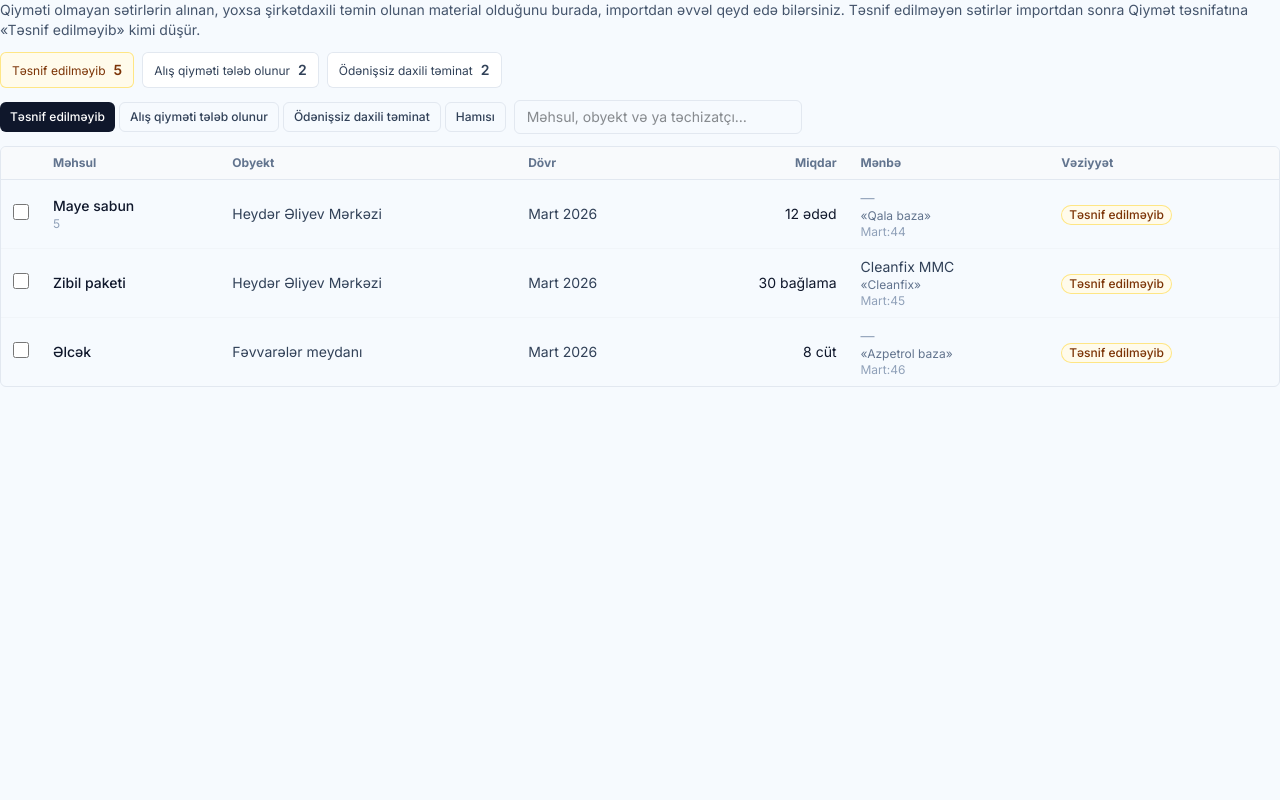
Test: classifying › names the two selected rows, and sends exactly their ids as «Ödənişsiz daxili təminat»
The width and height of the screenshot is (1280, 800).
Check: the text "Maye sabun" is shown, box [53,197,134,214]
Click the checkbox named "Maye sabun · Heydər Əliyev Mərkəzi · Mart 2026". click: (21,212)
box: [13,204,29,220]
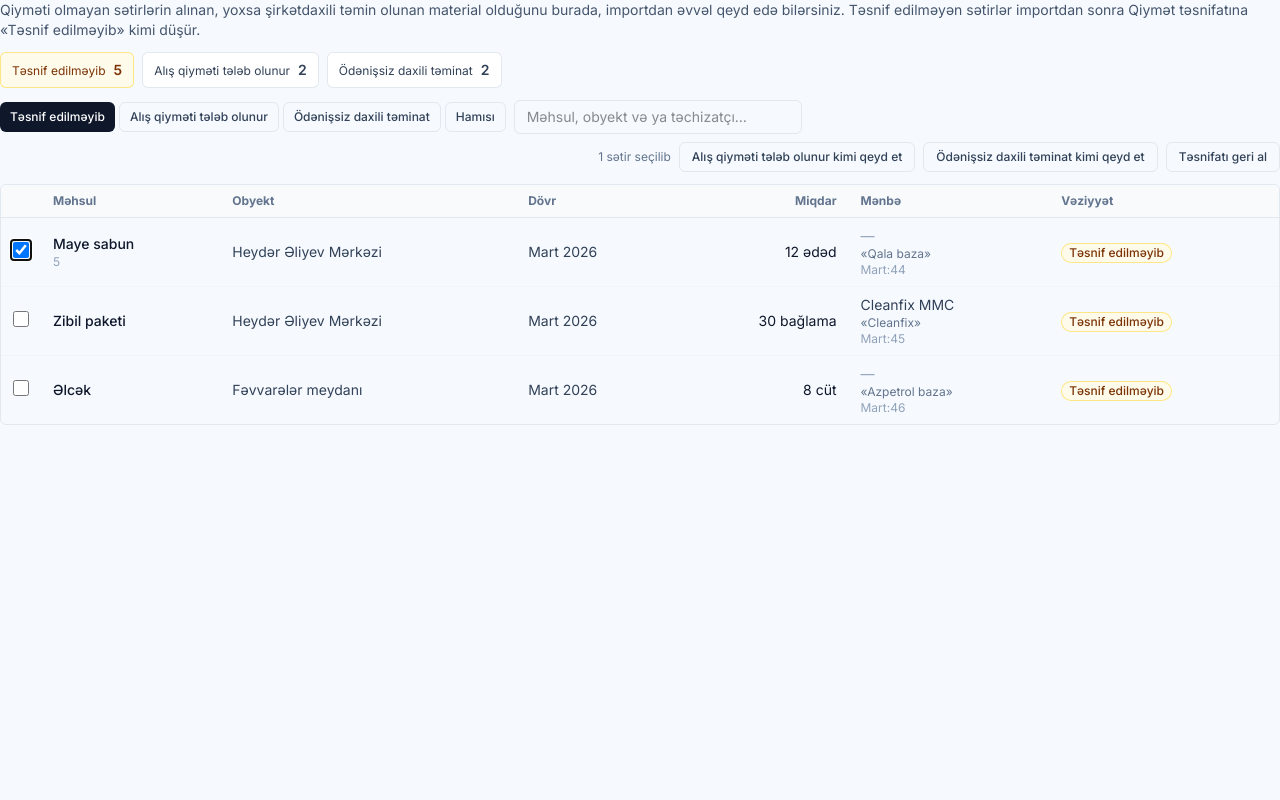
Click the checkbox named "Əlcək · Fəvvarələr meydanı · Mart 2026". click: (21,388)
box: [13,380,29,396]
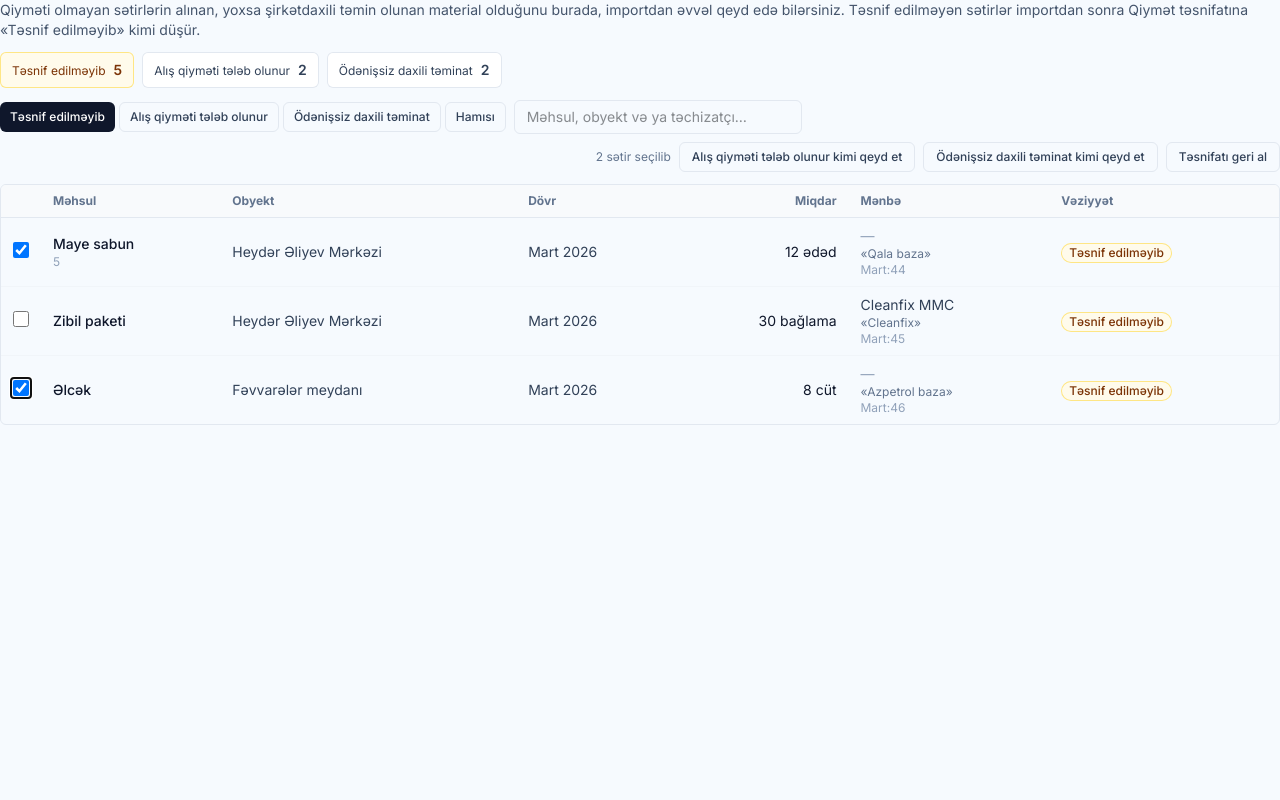
Click the button "Ödənişsiz daxili təminat kimi qeyd et". click: (1040,157)
box: [923,142,1158,172]
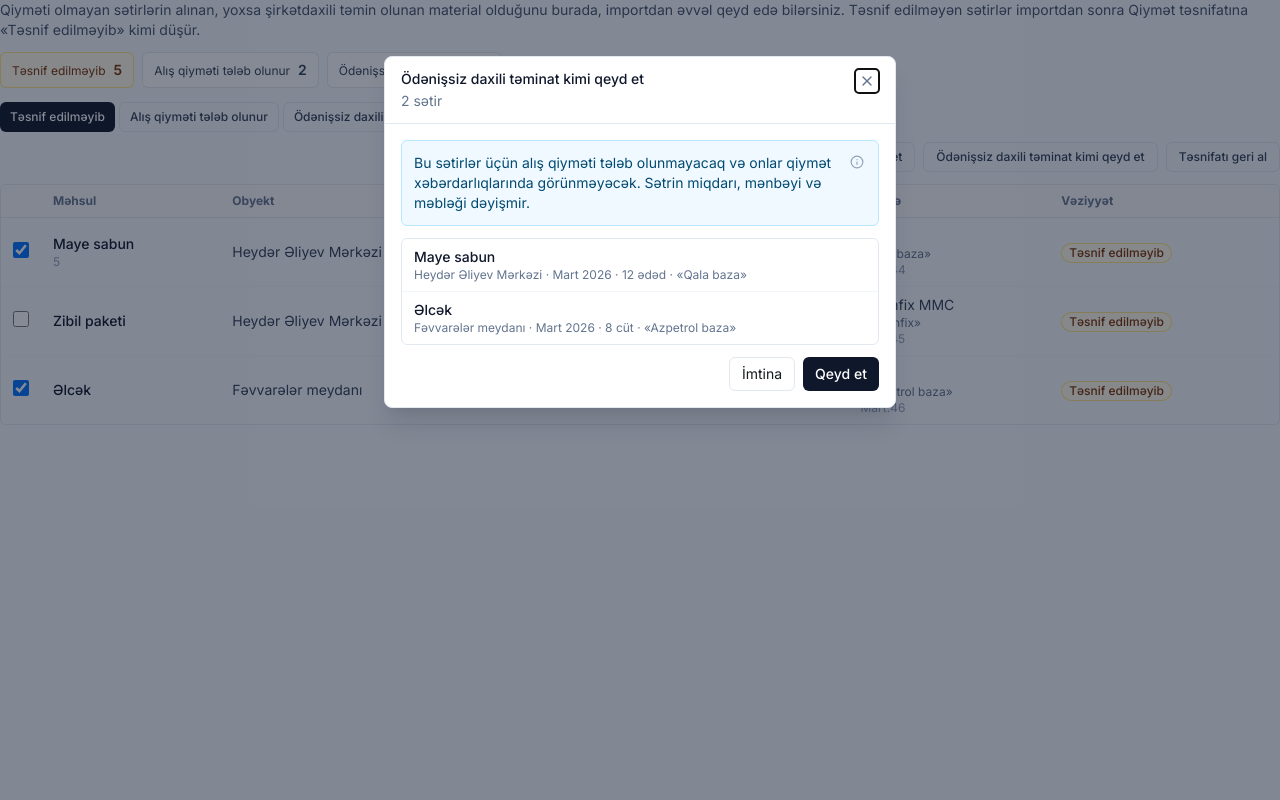
Check: the number of list items is 2, box [402,239,878,292]; [414,301,736,335]
Check: the list item that starts with "Maye sabun" is shown, box [414,248,495,265]
Check: the list item that starts with "Əlcək" is shown, box [414,301,452,318]
Click the button "Qeyd et". click: (841,374)
box: [803,357,879,391]
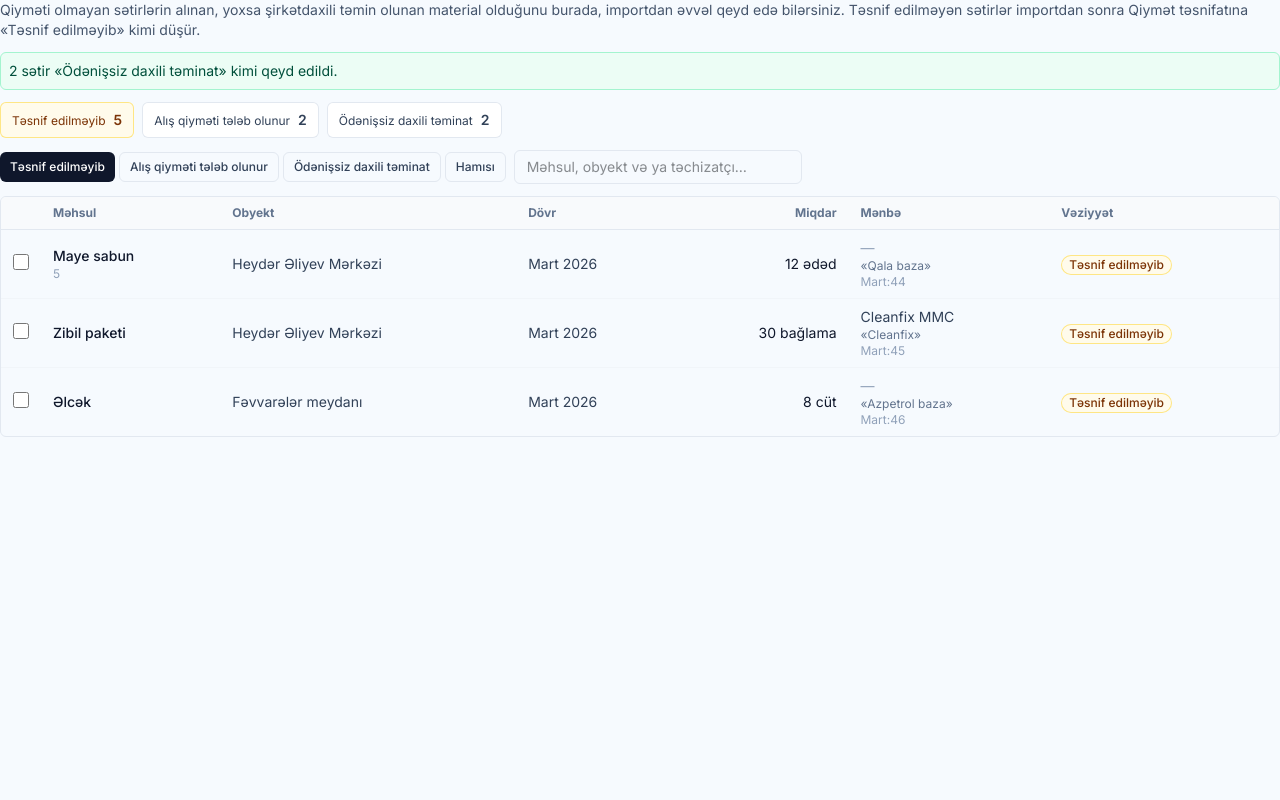
Check: the text "2 sətir «Ödənişsiz daxili təminat» kimi qeyd edildi." is shown, box [0,52,1279,90]
